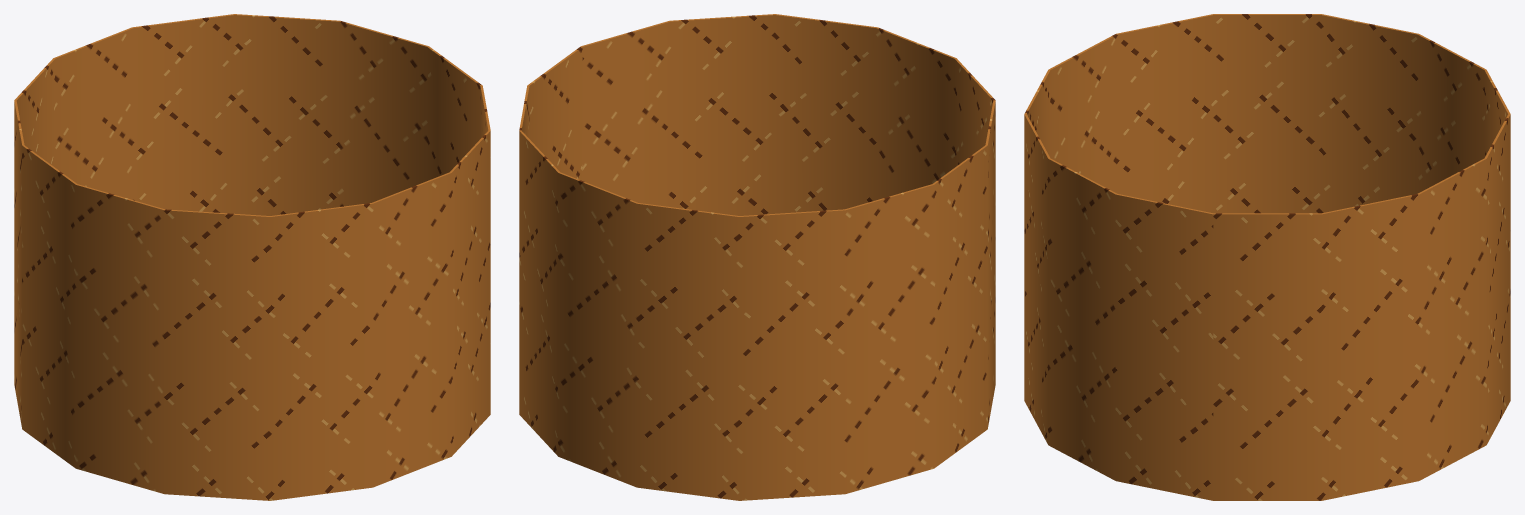
Rendered from SM_ReedBasketA.glb.
3 views of the same model, side by side, from view 1: azimuth 30°, elevation 25°; view 2: azimuth 150°, elevation 25°; view 3: azimuth 270°, elevation 25° (orthographic).
Parts seen in each view (by area): view 1: SM_ReedBasketA; view 2: SM_ReedBasketA; view 3: SM_ReedBasketA.
Part boxes in pixels (x1,y1,x2,y2): SM_ReedBasketA: [14, 14, 490, 500]; SM_ReedBasketA: [519, 14, 995, 500]; SM_ReedBasketA: [1024, 14, 1510, 500].
Bounding box in the file's own units: 1.95 × 1.3 × 2.
Materials: 1 (1 with a texture image).
